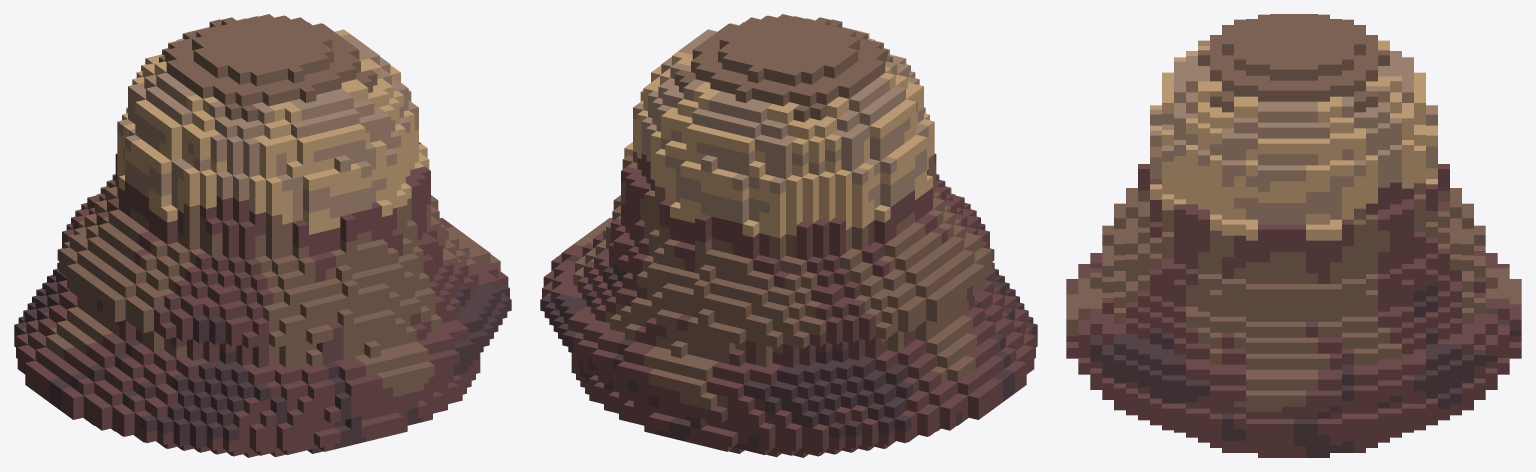
The model's file is Stump1.glb.
3 renders of one model, left to right at view 1: azimuth 30°, elevation 25°; view 2: azimuth 150°, elevation 25°; view 3: azimuth 270°, elevation 25°, orthographic.
Parts seen in each view (by area): view 1: q0; view 2: q0; view 3: q0.
Boxes of the visible parts, x1=… form: q0: x1=14, y1=14, x2=511, y2=457; q0: x1=540, y1=14, x2=1037, y2=457; q0: x1=1066, y1=14, x2=1521, y2=457.
Bounding box in the file's own units: 41 × 34 × 38.
Materials: 1 (1 with a texture image).
